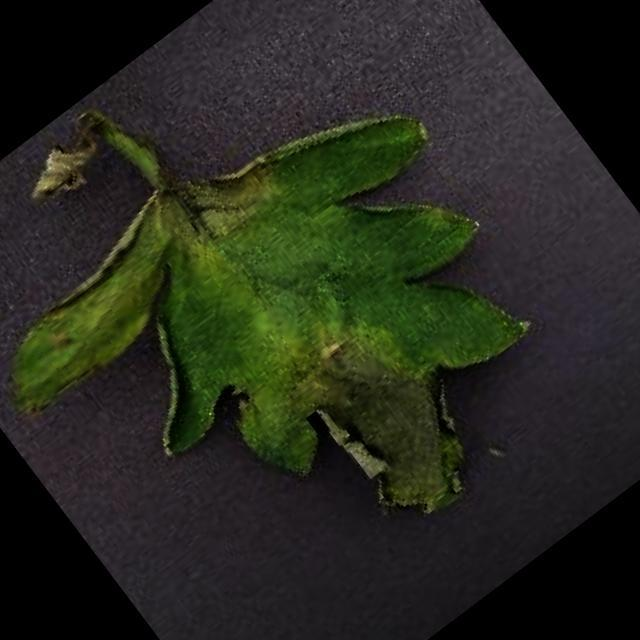Tomato late blight leaf: (0, 43, 612, 640)
